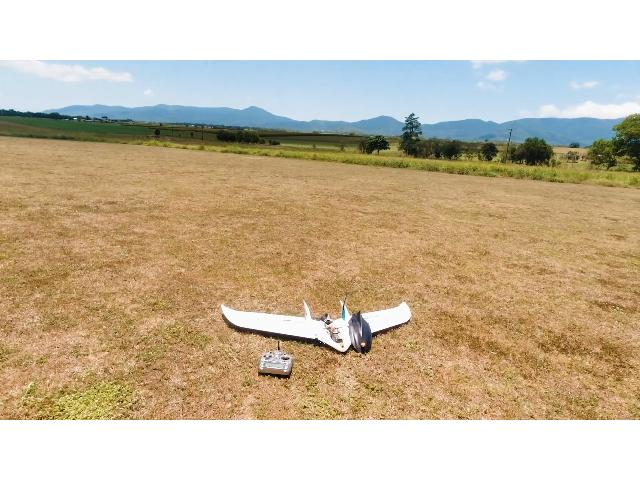Anti-Drone: (199, 288, 429, 356)
